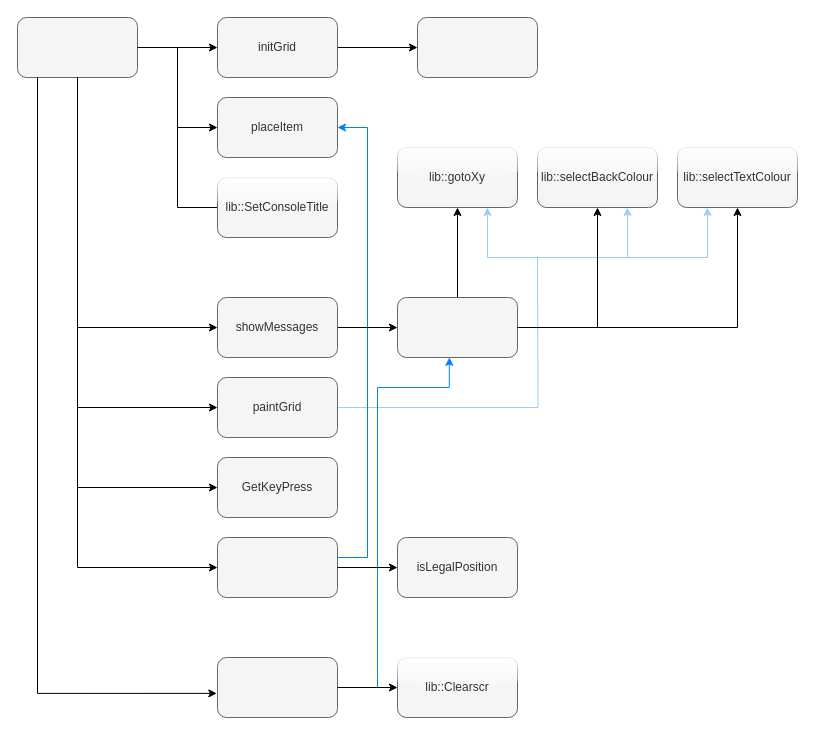
The diagram is 815 pixels wide and 735 high, and some of its shapes have lost their labels. The shapes that lost their labels are listed below. From the top down, each one's centre as x and y in pixels, then its label:
(77,47): main
(477,47): copyGrid
(457,327): showMessage
(277,567): updateBlob
(277,687): ReadyToQuit
